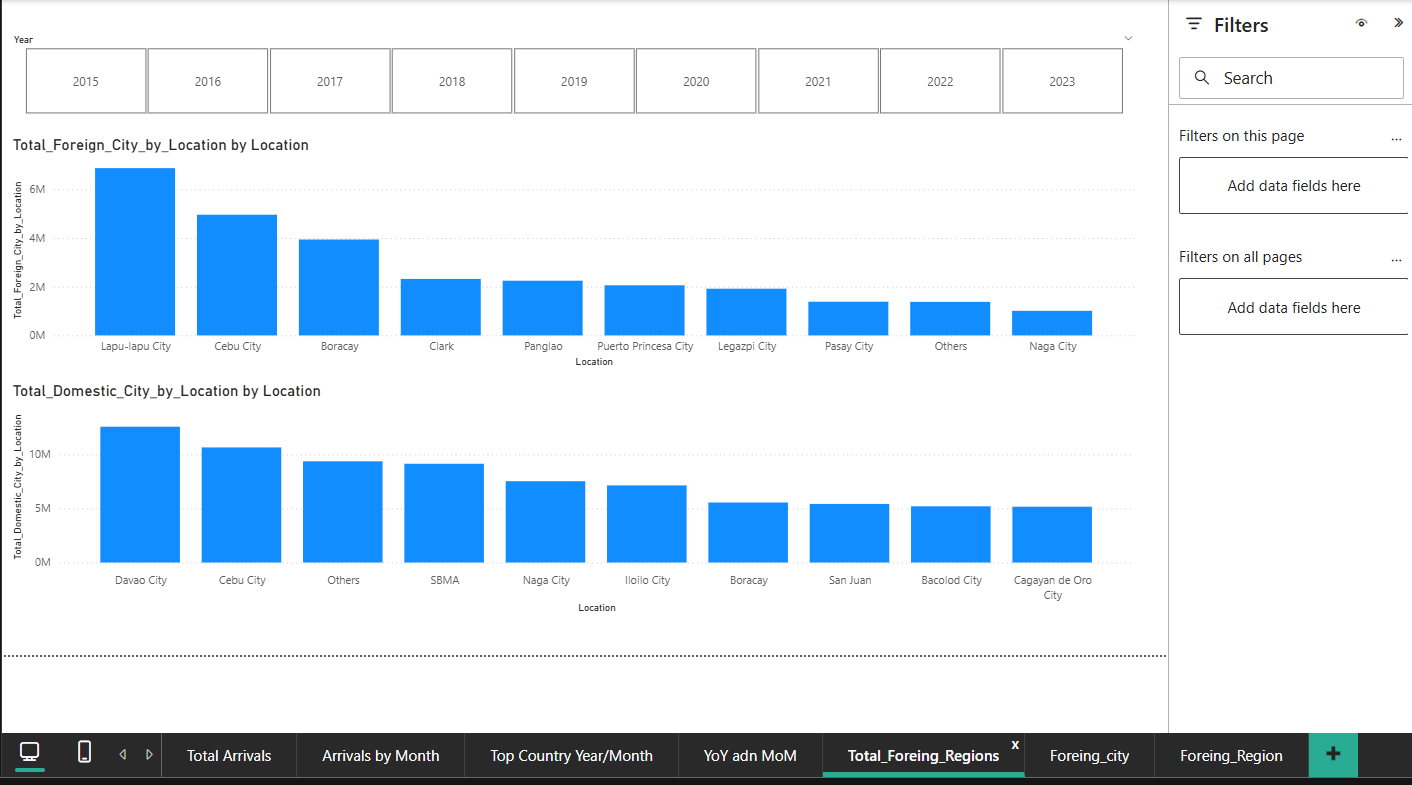

The page's visual inventory and layout, read from the dashboard file:
{"tool":"powerbi","page":{"name":"Página 1","canvas":[1280,720],"ordinal":4},"visuals":[{"type":"slicer","fields":{"Values":["Dim_year.Year"]},"box":[0,31.4,1254.3,100],"z":0},{"type":"clusteredColumnChart","fields":{"Category":["Sheet1.Location"],"Y":["Measures (2).Total_Foreign_City_by_Location"]},"box":[7.1,148.6,1241.4,260],"z":1000},{"type":"clusteredColumnChart","fields":{"Y":["Measures (2).Total_Domestic_City_by_Location"],"Category":["Sheet1.Location"]},"box":[7,419,1241,260],"z":2000}]}

Visuals, with their boxes on the page's 1280x720 design canvas (x1, y1, x2, y2). These are canvas units, not pixel positions in the 1412x785 screenshot, which may show the page scaled, cropped or inside an application window:
slicer - Dim_year.Year: region(0, 31, 1254, 131)
clusteredColumnChart - Sheet1.Location x Measures (2).Total_Foreign_City_by_Location: region(7, 149, 1248, 409)
clusteredColumnChart - Measures (2).Total_Domestic_City_by_Location x Sheet1.Location: region(7, 419, 1248, 679)
